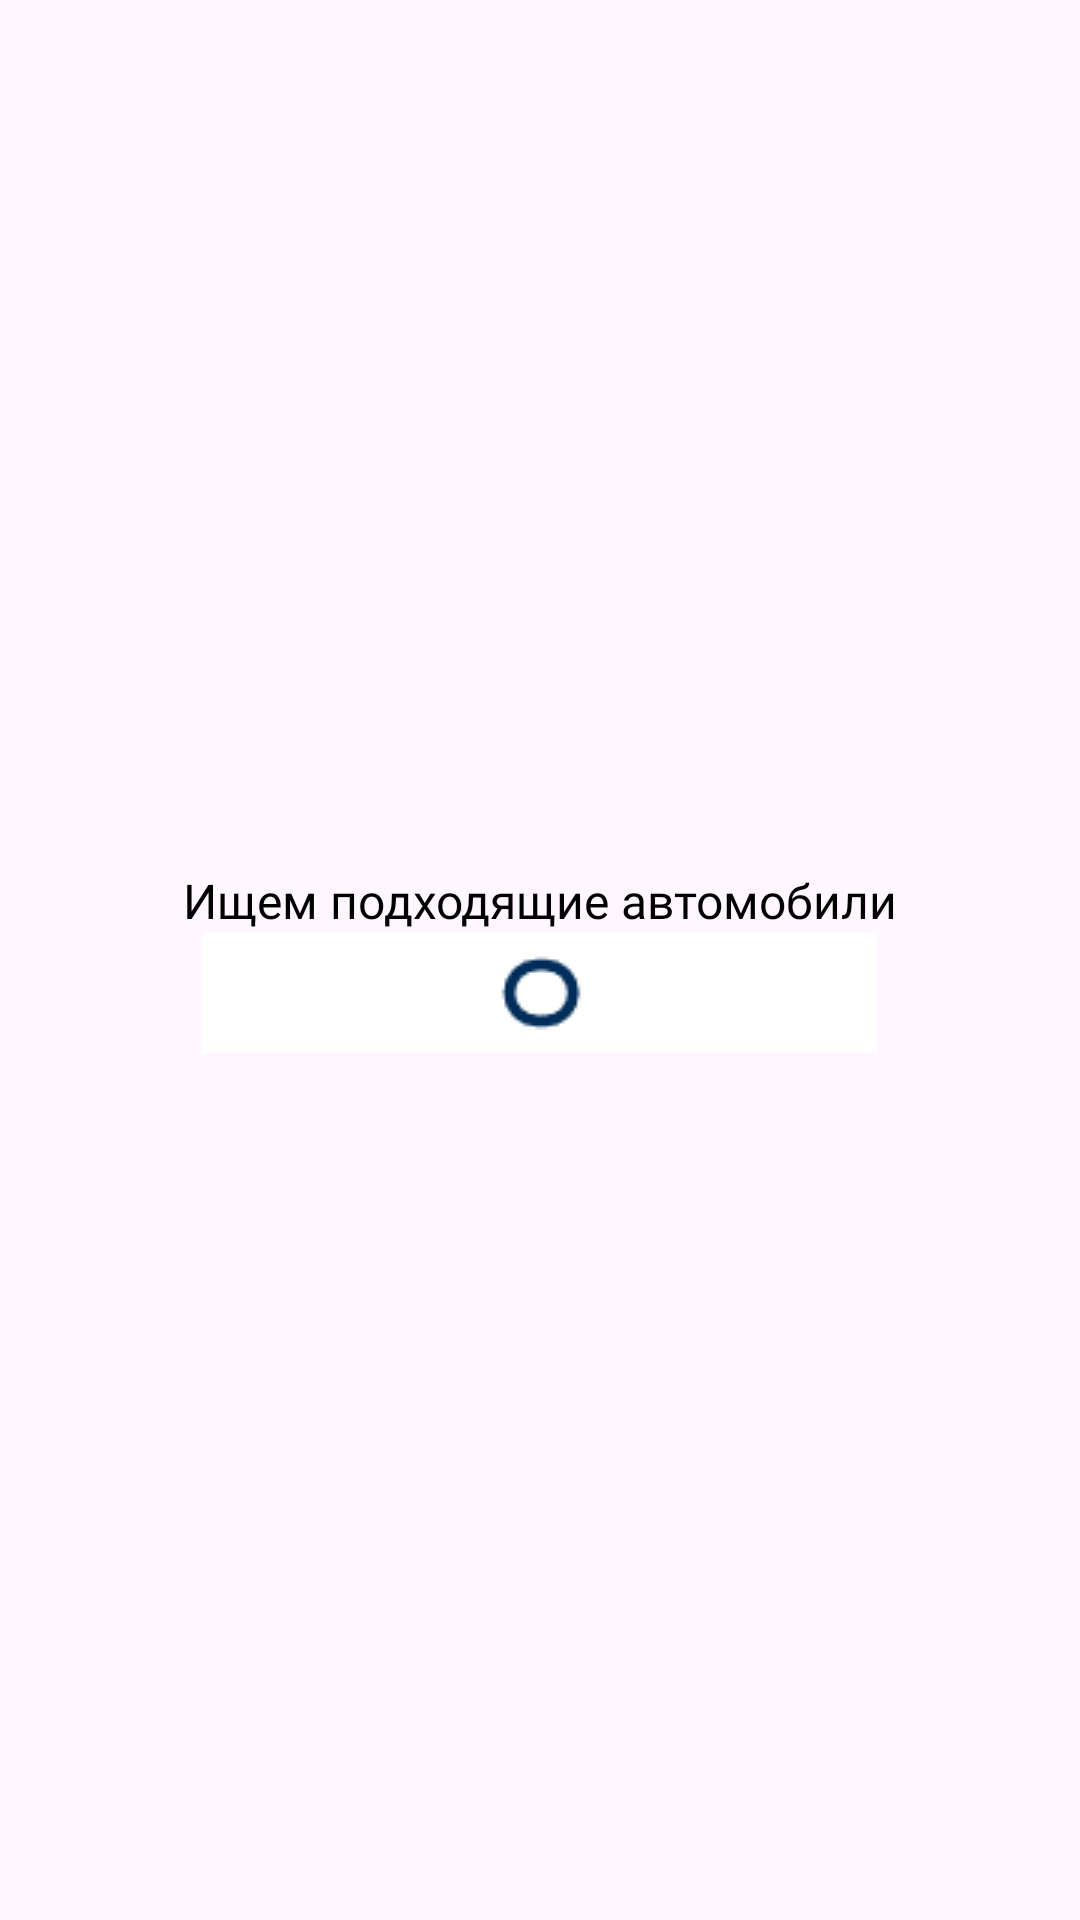

Where to tap for icons on this 1080px×1920px app screen, as [x,y]:
gif loading: [541,993]
